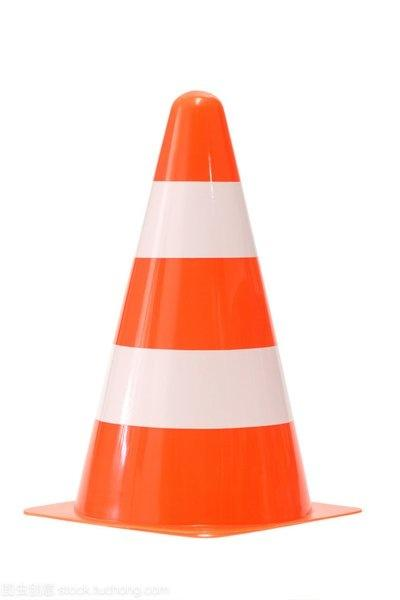cone_barrel: (82, 90, 317, 522)
